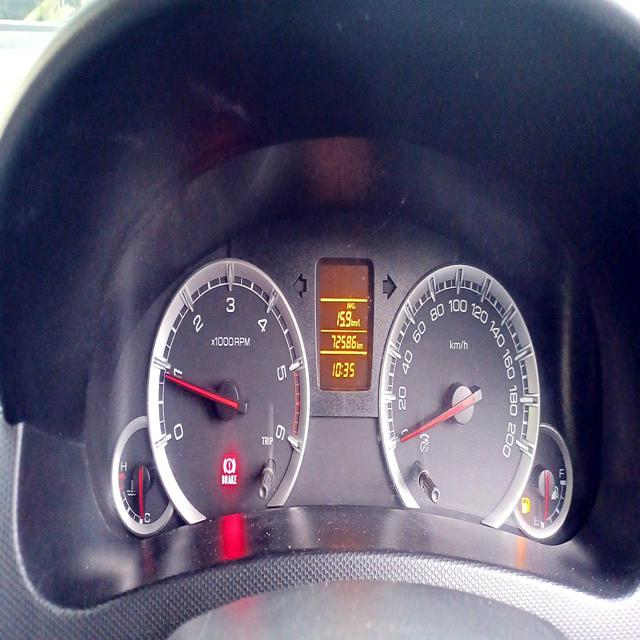odometer: (326, 329, 357, 353)
